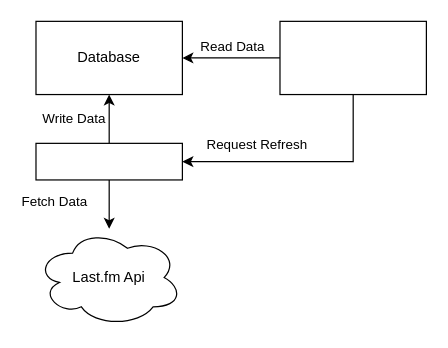
Some shapes in this 448 by 348 pixel diagram are drawn without their labels. Here are the shapes that lost their labels. From the top down, the box of each, then its label:
(279, 20, 426, 95): Client
(35, 142, 182, 180): Edge Functions
